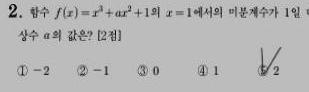choice: (256, 59, 271, 78)
not-choice: (15, 64, 29, 78), (195, 63, 209, 77), (75, 63, 88, 78), (136, 63, 149, 78)
